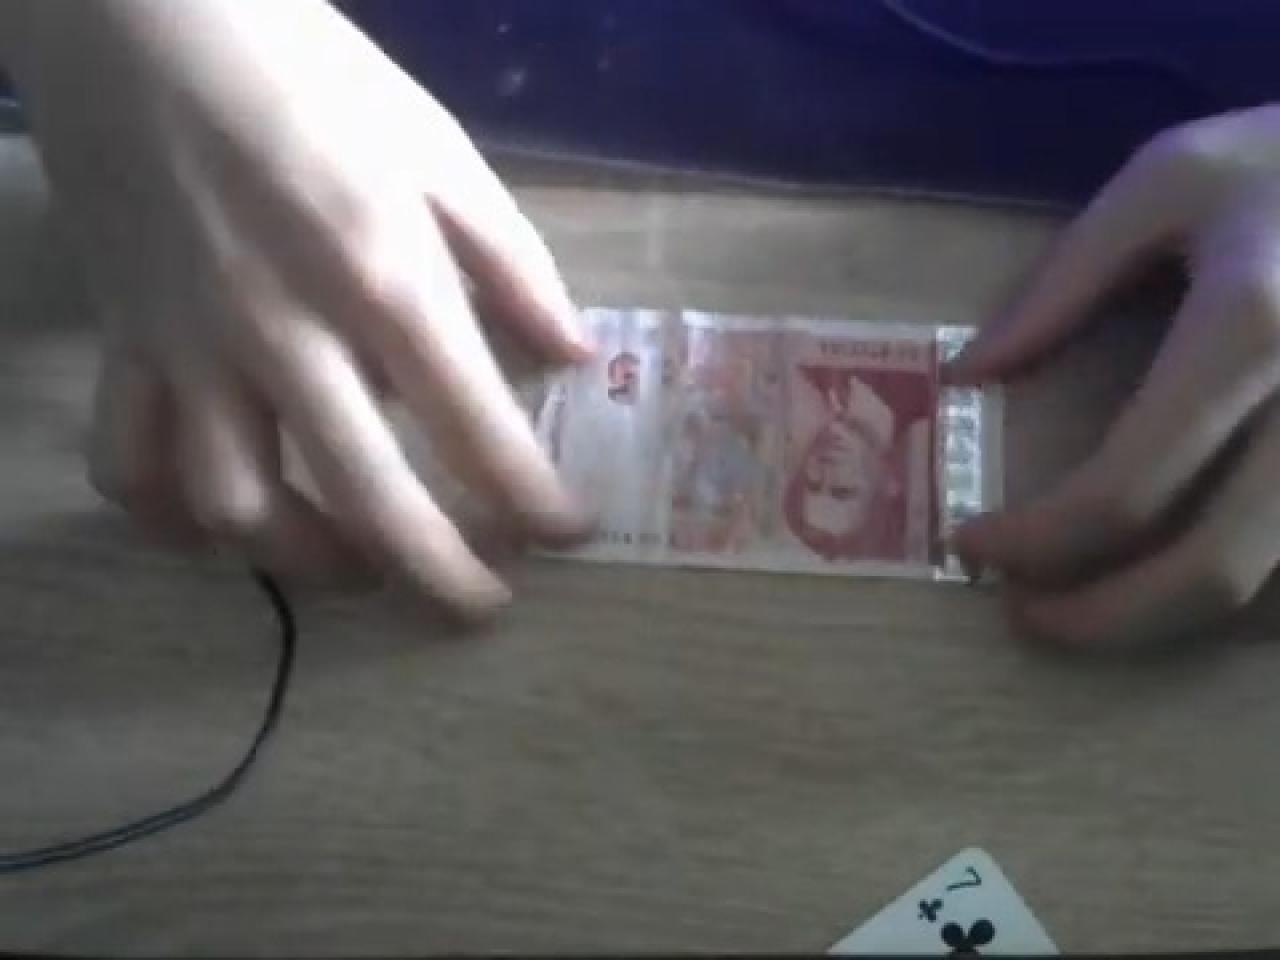5leva: (592, 312, 944, 576)
